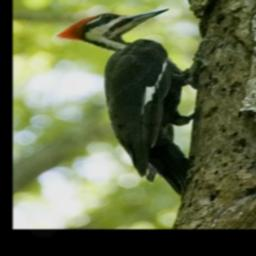Woodpecker: (55, 9, 200, 196)
